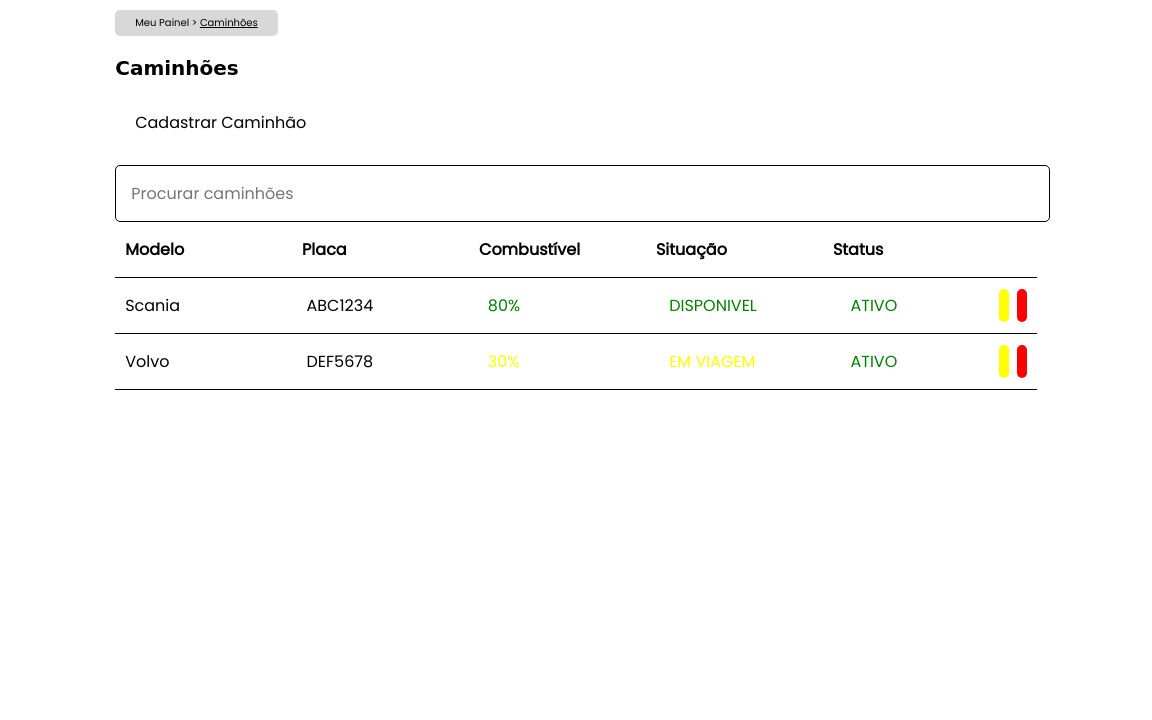
Caminhões Page › should open DeleteTruckModal when delete button is clicked
Click the 2nd button titled "Deletar": click(1022, 306) [1017,293,1027,318]
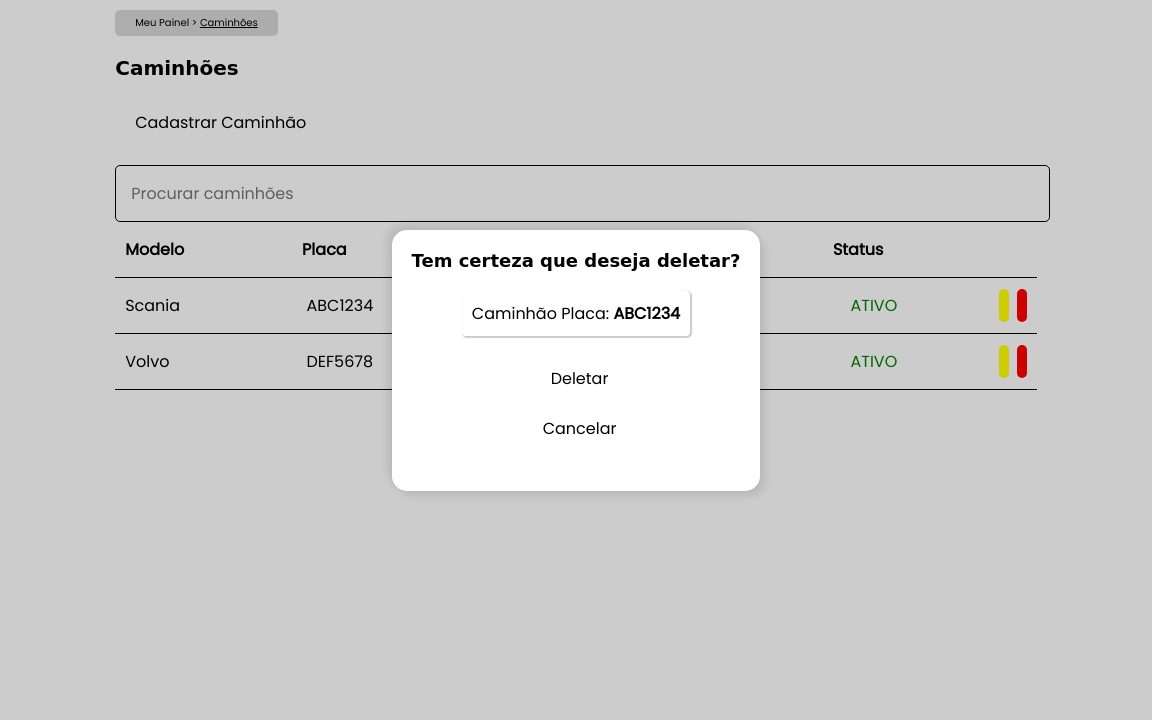
Check: the heading "Tem certeza que deseja deletar?" is shown, box [412,250,740,270]
